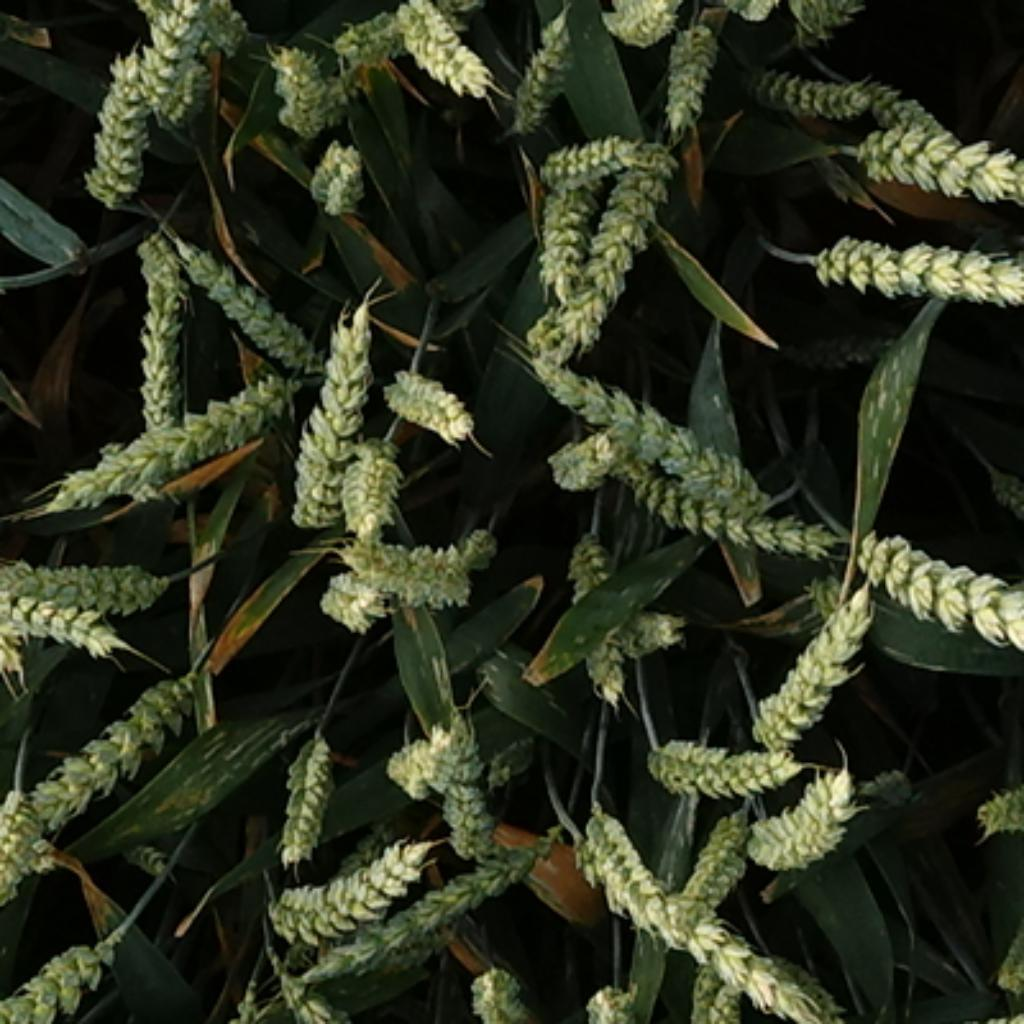0-0: (568, 832, 857, 1024), (522, 348, 780, 509), (527, 130, 688, 366), (294, 839, 542, 988), (51, 365, 297, 514), (855, 519, 1024, 709), (34, 661, 219, 834), (614, 455, 837, 563), (737, 583, 880, 747), (261, 829, 448, 952), (563, 798, 714, 949), (803, 225, 1024, 325), (291, 299, 386, 522), (171, 230, 322, 366), (844, 109, 1024, 219), (130, 220, 204, 427), (317, 527, 481, 611), (71, 43, 158, 197), (742, 760, 862, 870), (2, 924, 130, 1024), (563, 519, 629, 709), (0, 556, 183, 624), (842, 76, 985, 161), (637, 721, 796, 796), (384, 0, 499, 99), (437, 714, 512, 865), (529, 163, 604, 304), (734, 53, 890, 120), (504, 2, 586, 128), (271, 721, 343, 855), (775, 307, 911, 373), (266, 30, 353, 133), (0, 595, 143, 656), (122, 0, 258, 61), (382, 368, 482, 447), (314, 560, 399, 652), (655, 7, 724, 120), (683, 808, 752, 916), (384, 711, 463, 803), (535, 125, 645, 189), (540, 424, 640, 494), (332, 430, 401, 529), (322, 0, 417, 71), (273, 965, 381, 1024), (1, 789, 55, 893), (307, 128, 373, 212), (463, 952, 540, 1021), (796, 0, 947, 35), (156, 51, 217, 130), (573, 967, 655, 1024), (688, 952, 750, 1024), (335, 826, 404, 885), (619, 604, 691, 660), (970, 760, 1024, 834), (724, 0, 832, 33), (486, 729, 545, 788), (977, 563, 1024, 637), (599, 0, 680, 40), (980, 455, 1024, 527), (711, 0, 801, 35), (860, 757, 919, 808), (458, 512, 514, 565), (996, 913, 1024, 1002), (119, 842, 175, 886), (806, 568, 852, 616), (422, 0, 563, 10), (1011, 217, 1024, 281)
